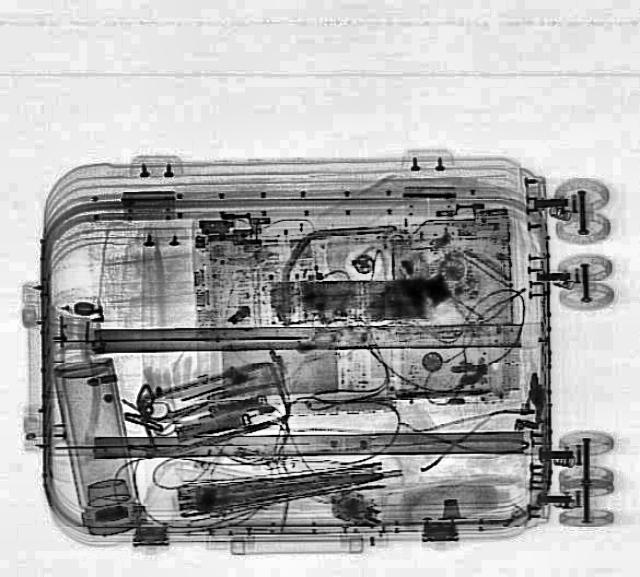Scissors: (140, 388, 222, 438)
